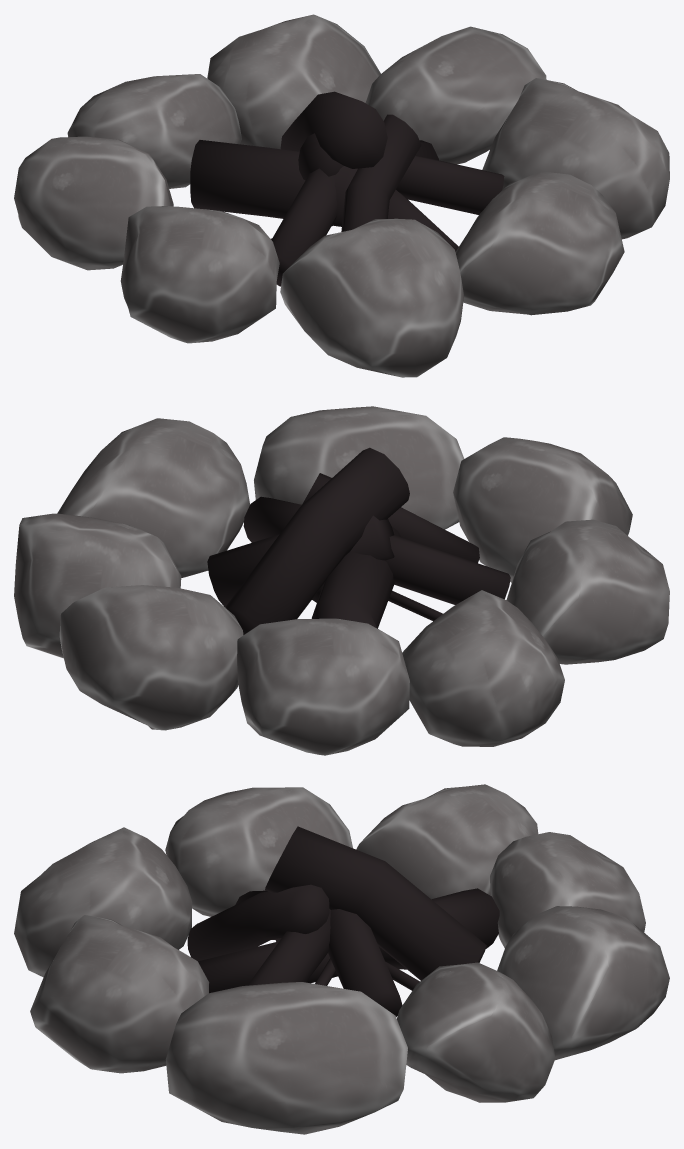
File: ognisko.fbx
The picture shows the model from 3 angles, top to bottom: view 1: azimuth 30°, elevation 25°; view 2: azimuth 150°, elevation 25°; view 3: azimuth 270°, elevation 25°; orthographic projection. The views are drawn at different scales.
Visible parts, largest first — view 1: Cylinder.028; view 2: Cylinder.028; view 3: Cylinder.028.
Boxes of the visible parts, <box> form: Cylinder.028: <box>14,14,669,377</box>; Cylinder.028: <box>14,406,669,755</box>; Cylinder.028: <box>14,784,669,1134</box>.
Bounding box in the file's own units: 506 × 156 × 511.
18 materials, 8 textured.
